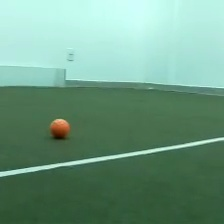ball: (48, 117, 72, 140)
goal: (1, 64, 67, 89)
